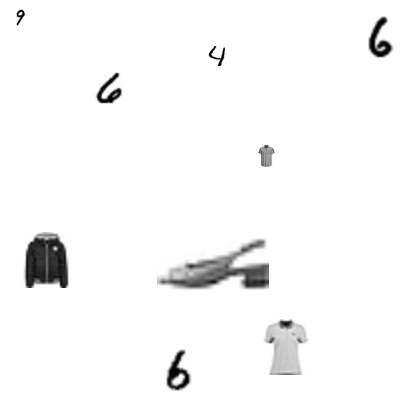4: (203, 41, 231, 69)
6: (351, 11, 407, 67), (149, 344, 205, 400), (87, 70, 129, 112)
9: (9, 5, 31, 27)
Coat: (18, 232, 74, 288)
Sandal: (157, 208, 269, 320)
Shirt: (255, 145, 277, 167)
T-shirt/top: (258, 319, 314, 375)
